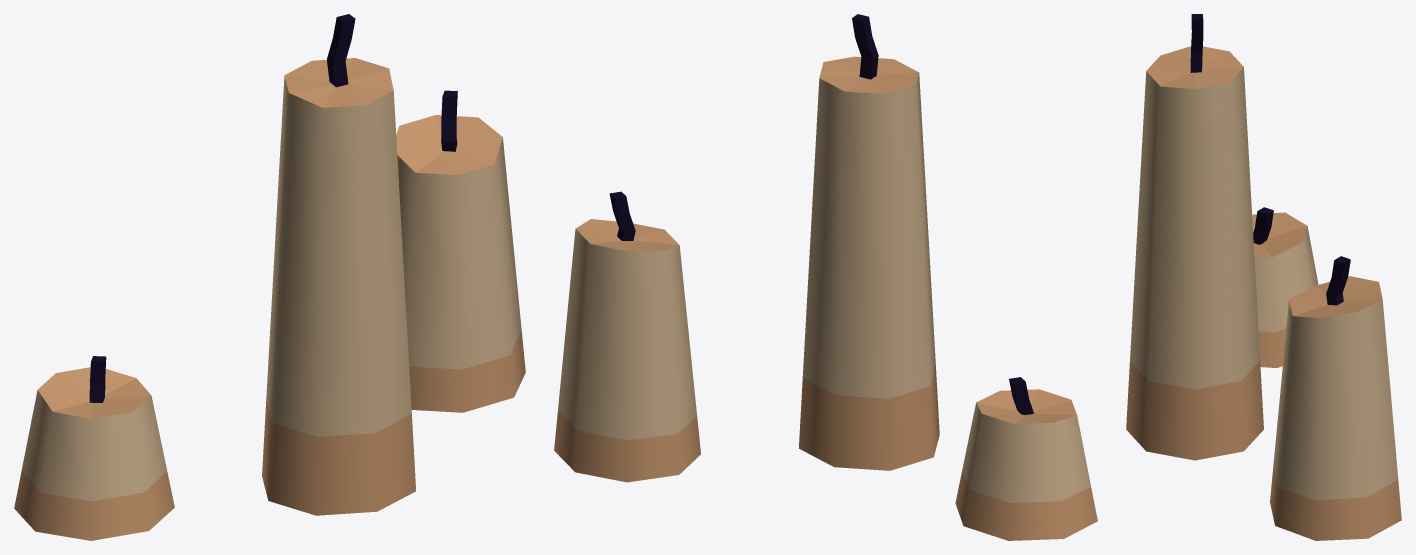
Rendered from Candle.fbx.
3 renders of one model, left to right at view 1: azimuth 30°, elevation 25°; view 2: azimuth 150°, elevation 25°; view 3: azimuth 270°, elevation 25°, orthographic. The views are drawn at different scales.
Visible parts, largest first — view 1: VelaCenario; view 2: VelaCenario; view 3: VelaCenario.
Part boxes in pixels (<box>): VelaCenario: <box>14,14,525,540</box>; VelaCenario: <box>554,14,1097,540</box>; VelaCenario: <box>1126,14,1401,540</box>.
Size of the model in its own units: 30 by 25 by 15.
